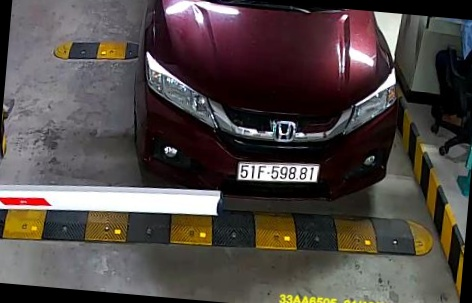plate: (238, 157, 323, 187)
